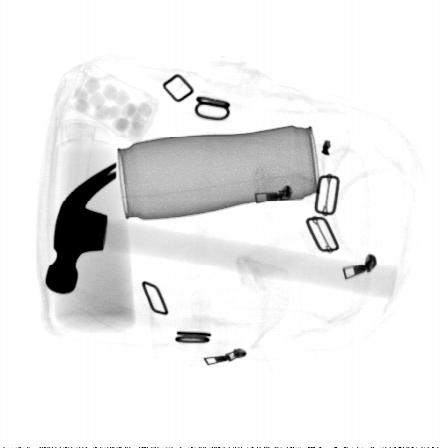Hammer: (44, 162, 401, 301)
